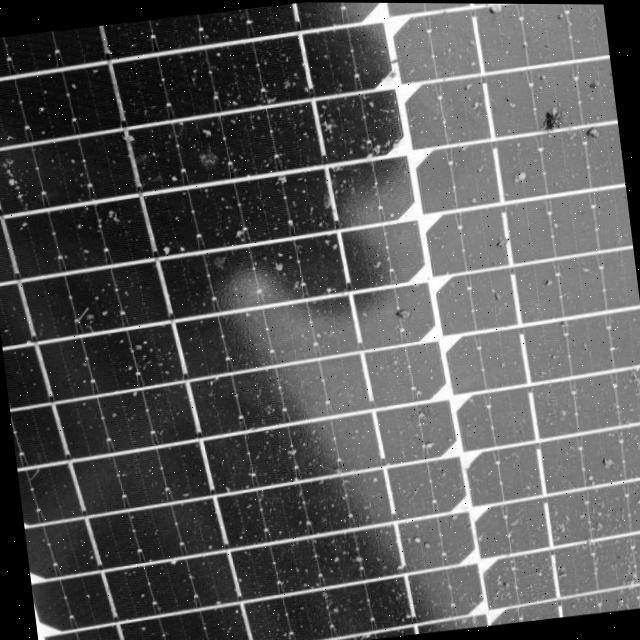Surface Contaminant: (0, 2, 640, 640)
